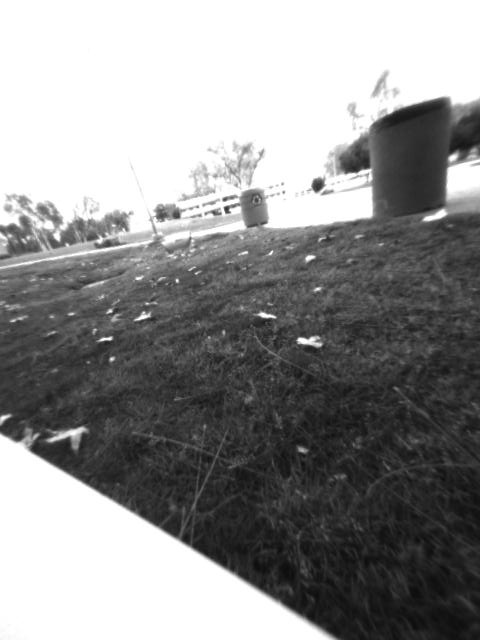trashcan: (368, 93, 452, 217), (237, 184, 270, 230)
